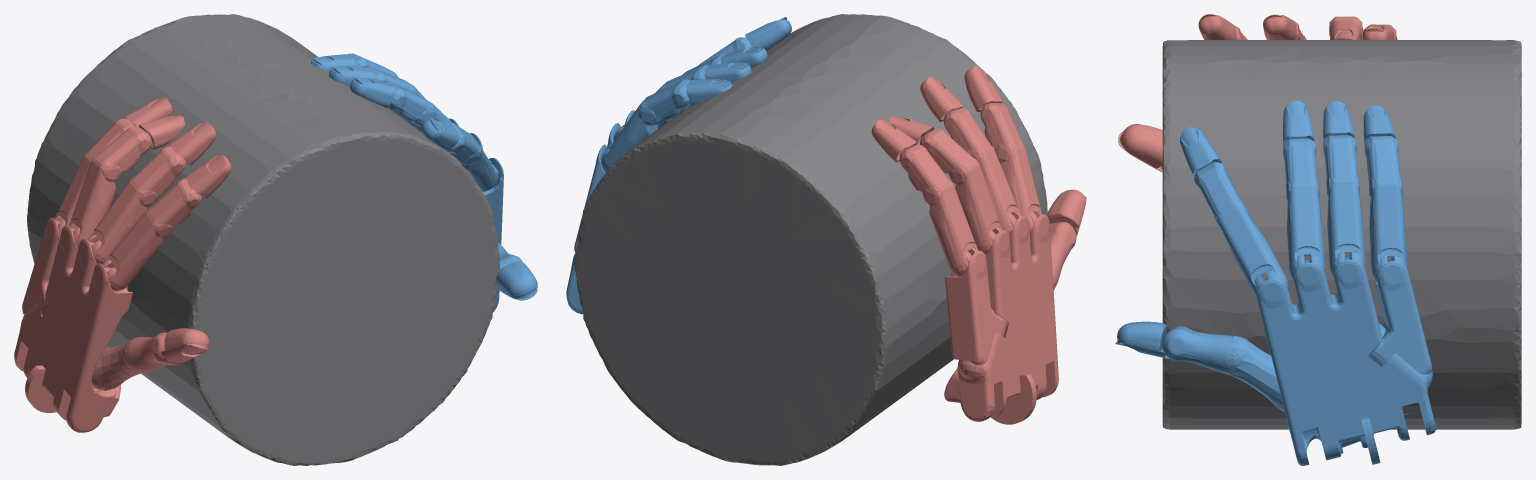
Rendered from toilet_paper.glb.
3 views of the same model, side by side, from view 1: azimuth 30°, elevation 25°; view 2: azimuth 150°, elevation 25°; view 3: azimuth 270°, elevation 25° (orthographic). The views are drawn at different scales.
Parts seen in each view (by area): view 1: object_mesh, left_shadow_hand, right_shadow_hand; view 2: object_mesh, left_shadow_hand, right_shadow_hand; view 3: object_mesh, right_shadow_hand, left_shadow_hand.
Boxes of the visible parts, bbox=[...] form: object_mesh: bbox=[27, 14, 499, 465]; left_shadow_hand: bbox=[14, 97, 231, 432]; right_shadow_hand: bbox=[311, 53, 537, 312]; object_mesh: bbox=[575, 14, 1047, 465]; left_shadow_hand: bbox=[871, 65, 1086, 424]; right_shadow_hand: bbox=[566, 17, 791, 314]; object_mesh: bbox=[1162, 40, 1521, 429]; right_shadow_hand: bbox=[1115, 100, 1435, 465]; left_shadow_hand: bbox=[1118, 14, 1397, 172].
Bounding box in the file's own units: 0.3121 × 0.2149 × 0.2242.
